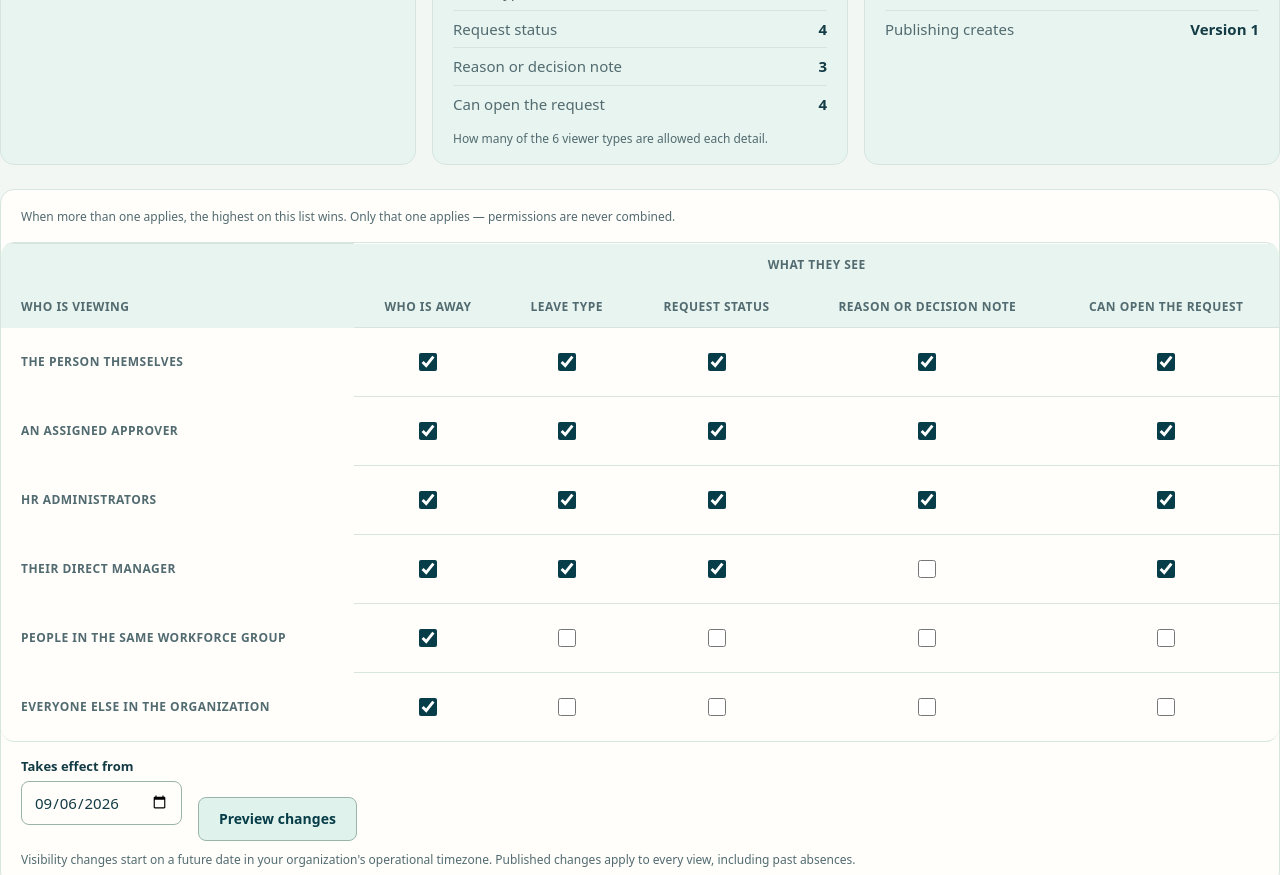
Scenario: CalendarPrivacySettingsPage › shows non-retry copy when the capability is unavailable, and clears it on recovery
(page scrolled)
Expected: the table with test id "calendar-privacy-matrix" is shown, [1,243,1279,741]
Click the button with test id "calendar-privacy-preview" at (277, 819), box [198,797,357,841]
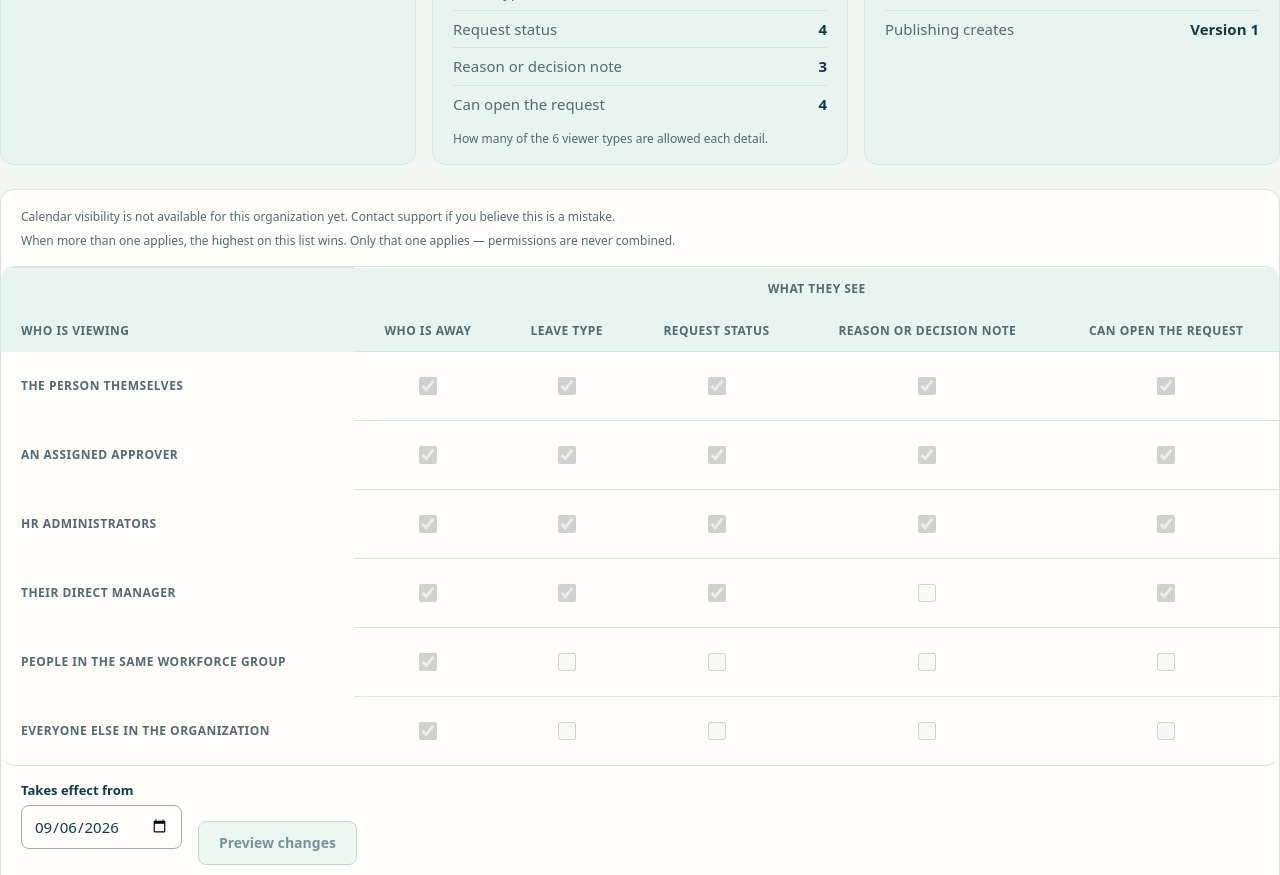
Expected: the message with test id "calendar-privacy-capability-unavailable" is shown, [21,208,615,225]
Expected: the button with test id "calendar-privacy-preview" is disabled, [198,821,357,865]
